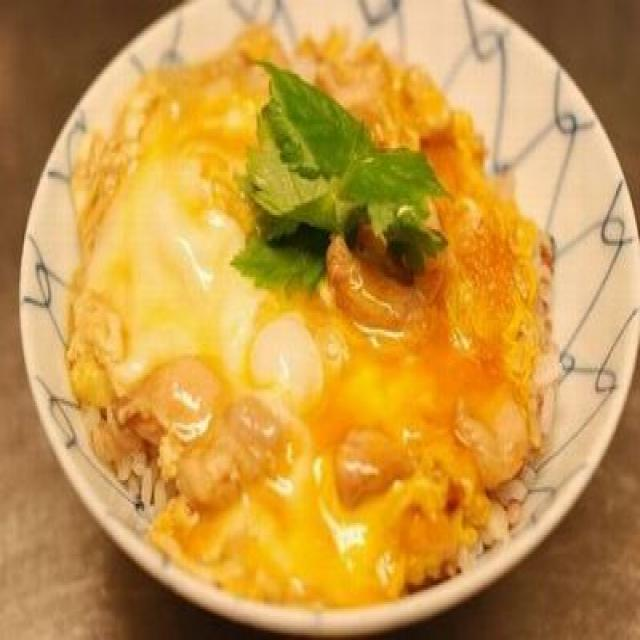米饭主食: (14, 0, 640, 640)
